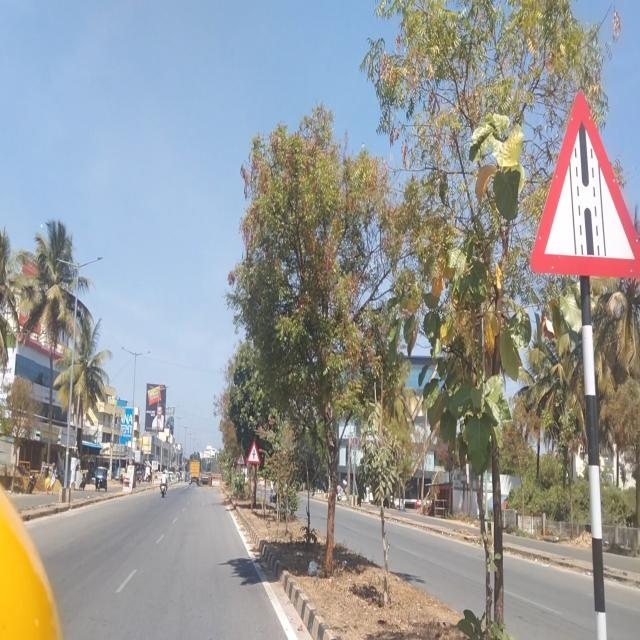bien_nguy_hiem: (532, 84, 640, 289), (246, 440, 260, 464), (236, 449, 245, 468)
